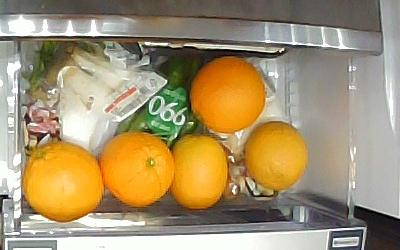orange: (26, 143, 105, 224), (191, 56, 267, 134), (100, 132, 175, 209), (168, 135, 228, 211), (244, 122, 309, 190)
